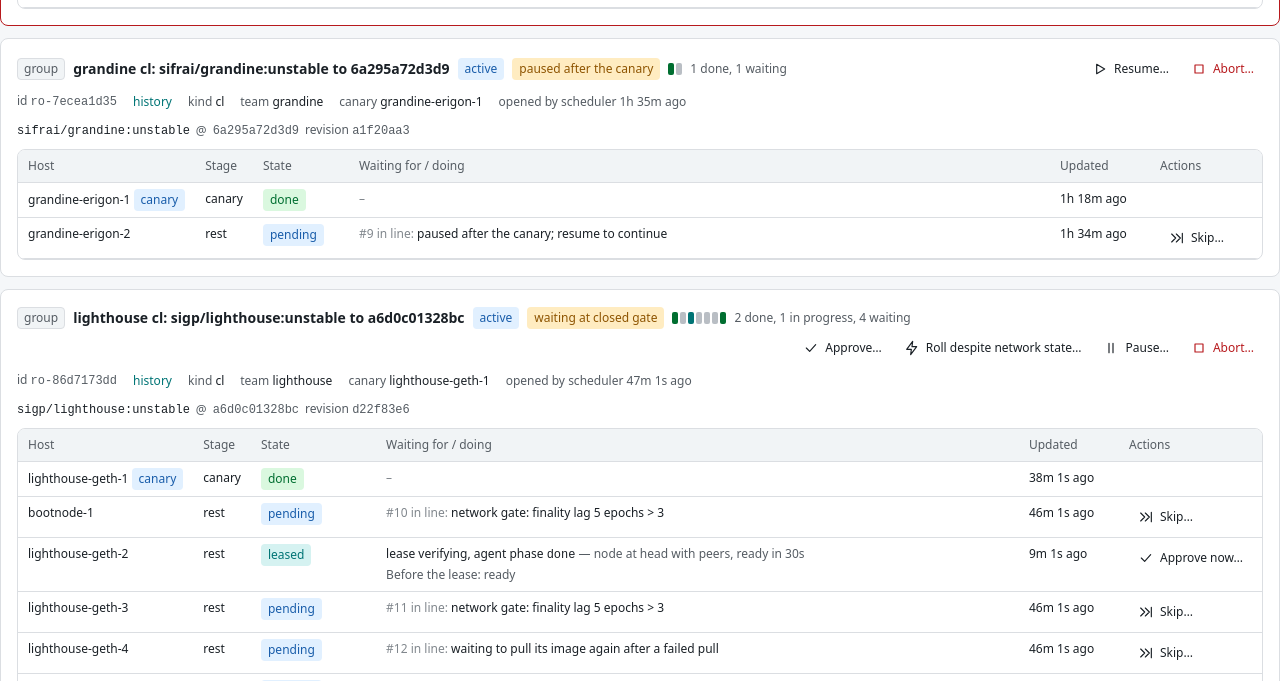
Test case: RolloutsTab, waits a person may lift › offers to approve an auto rollout that waits at the closed gate
This screenshot has width=1280, height=681.
(page scrolled)
Click the button "Approve…" at (842,348), box x1=794 y1=334 x2=891 y2=362
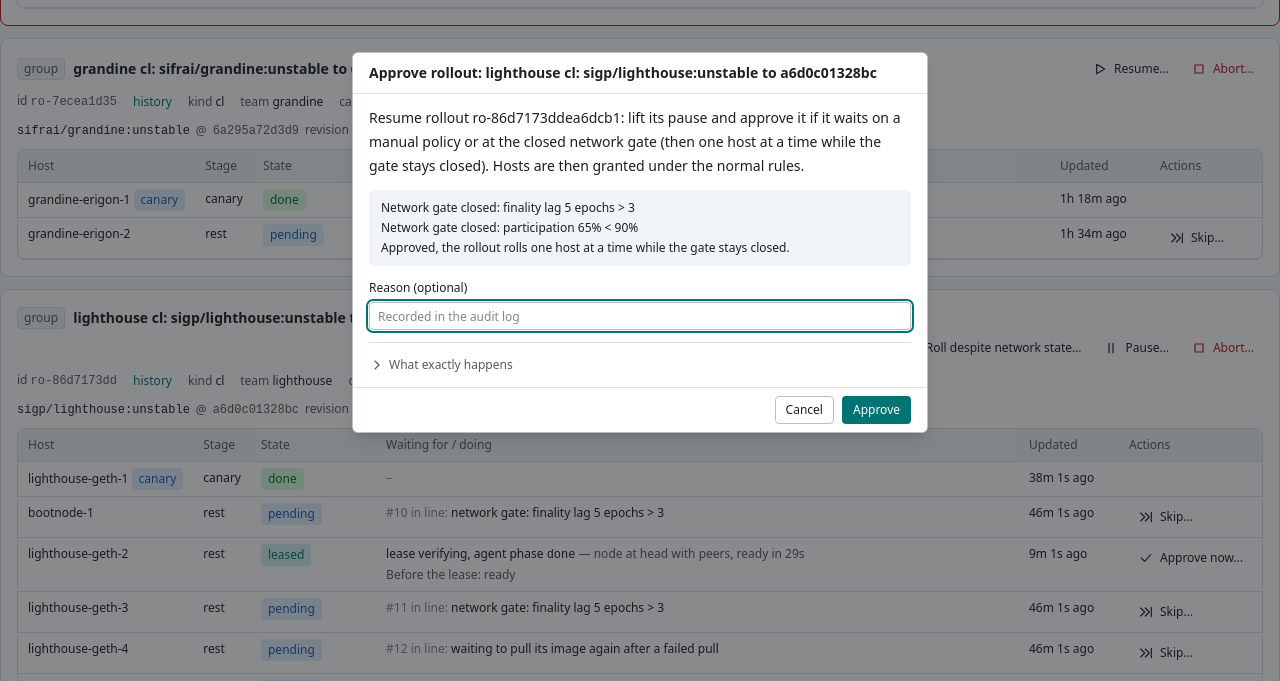
Result: the list named "Current state" shows "Network gate closed:" at x1=381 y1=199 x2=635 y2=216
Result: the list named "Current state" shows "one host at a time" at x1=381 y1=239 x2=790 y2=256
Click the button "Approve" at (876,410), box x1=842 y1=396 x2=911 y2=424
(page scrolled)
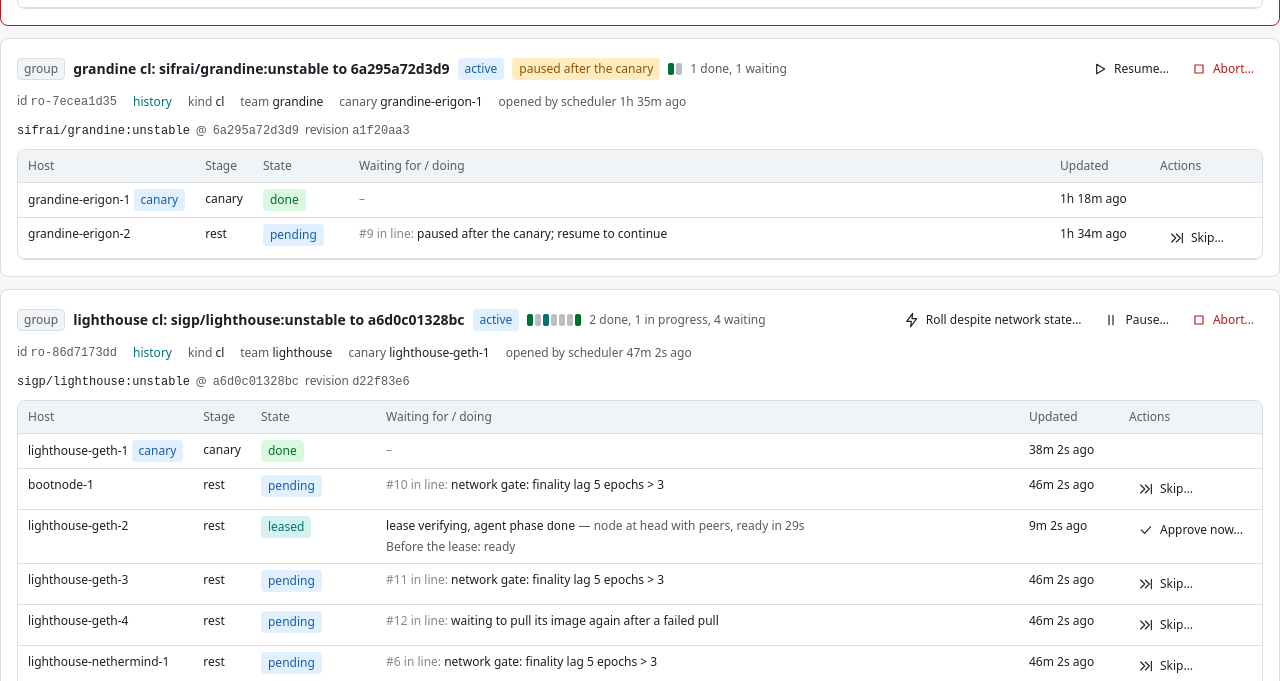
Result: the text "waiting at closed gate" is gone
